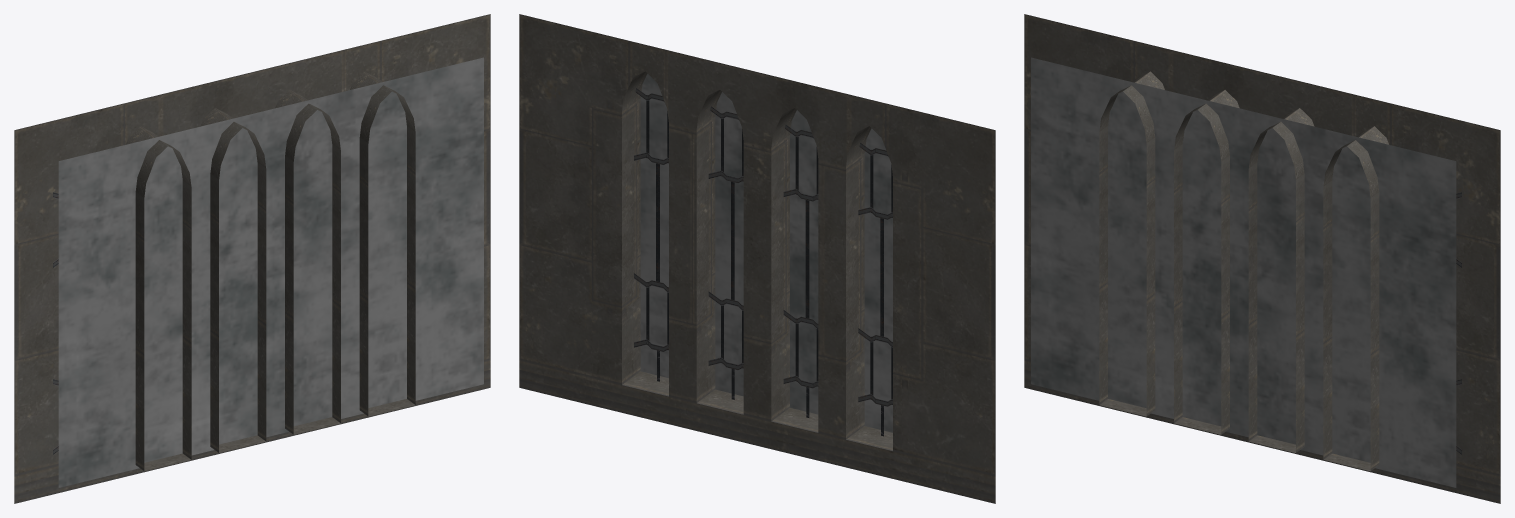
Rendered from ARC0910079.fbx.
The picture shows the model from 3 angles, left to right: view 1: azimuth 30°, elevation 25°; view 2: azimuth 150°, elevation 25°; view 3: azimuth 330°, elevation 25°; orthographic projection.
Visible parts, largest first — view 1: smARC0910079; view 2: smARC0910079; view 3: smARC0910079.
Part boxes in pixels (x1,y1,x2,y2): smARC0910079: [14, 14, 490, 503]; smARC0910079: [519, 14, 995, 503]; smARC0910079: [1024, 14, 1500, 503].
Size of the model in its own units: 400 by 300 by 40.
Materials: 1 (1 with a texture image).
